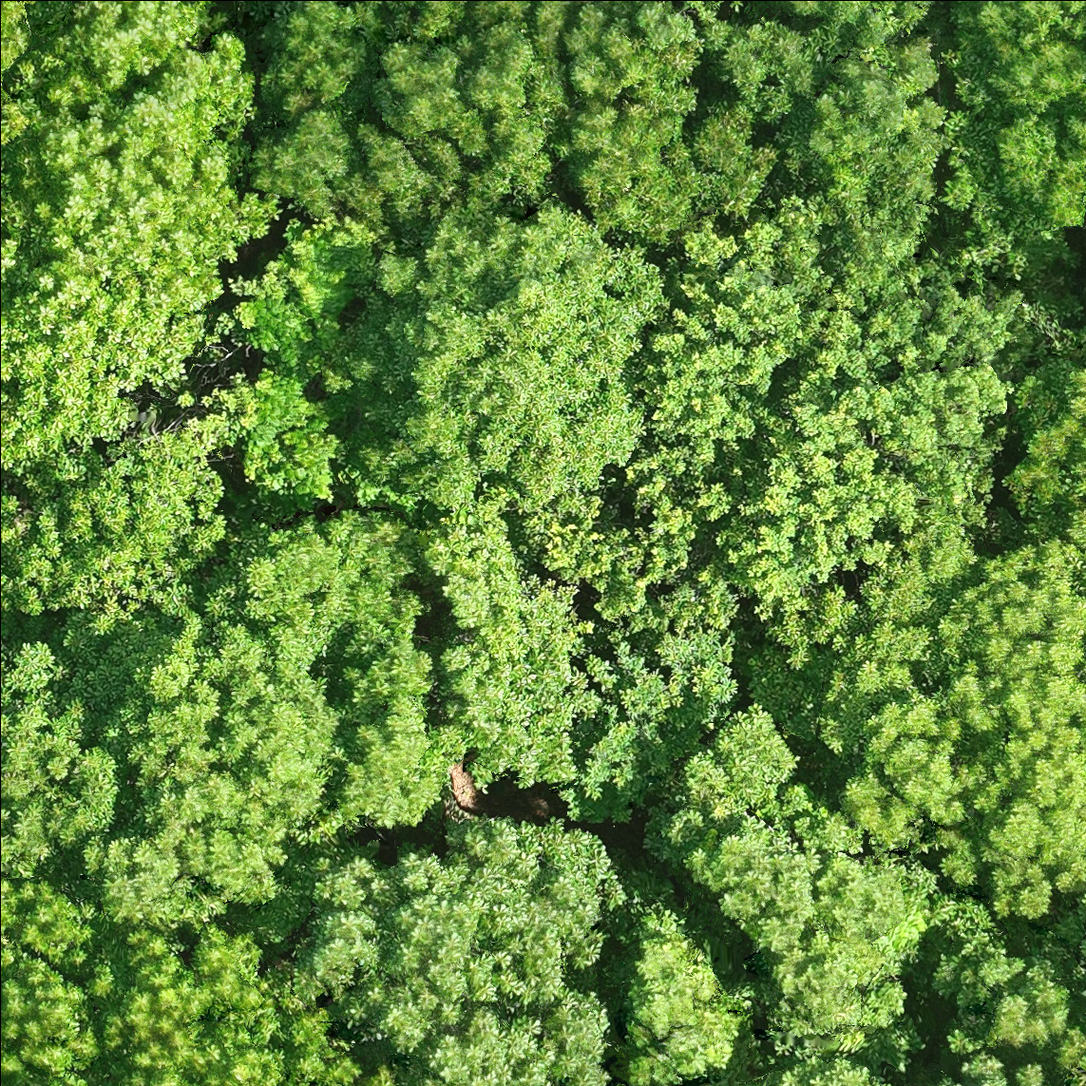Tree: (577, 228, 1015, 619), (90, 534, 423, 912), (249, 4, 744, 239), (0, 4, 255, 457), (283, 208, 621, 528), (836, 586, 1085, 902), (684, 749, 944, 1029), (1, 891, 373, 1085), (318, 838, 602, 1061), (726, 17, 949, 272), (417, 513, 575, 829), (943, 0, 1085, 284), (551, 635, 735, 819), (11, 435, 200, 600), (616, 898, 757, 1085), (3, 657, 116, 866), (1011, 326, 1085, 565), (974, 924, 1079, 1085), (746, 637, 846, 760)
